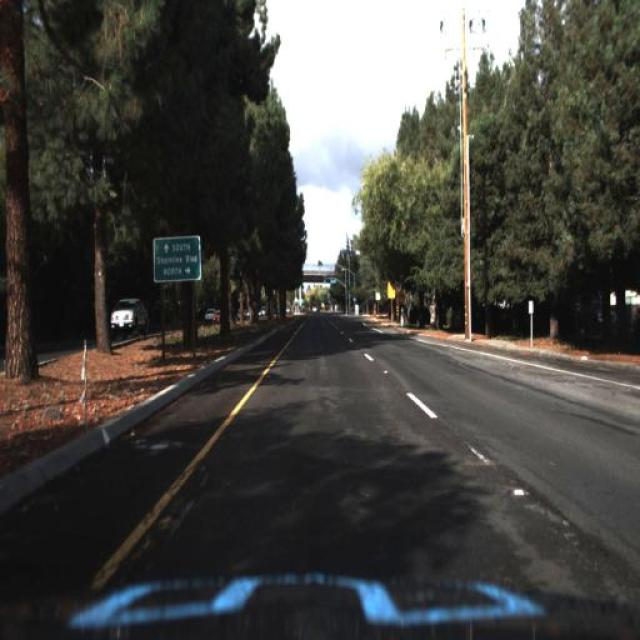car: (106, 298, 149, 347), (108, 292, 146, 338), (202, 302, 216, 328)
